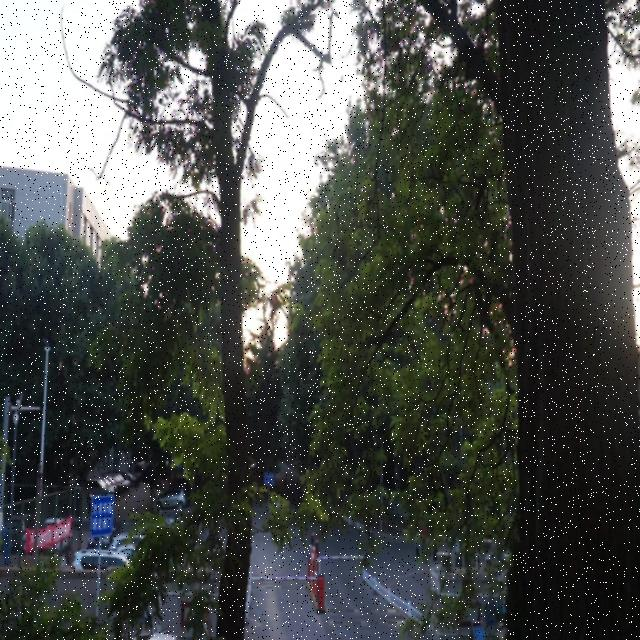UAV: (314, 161, 319, 166)
